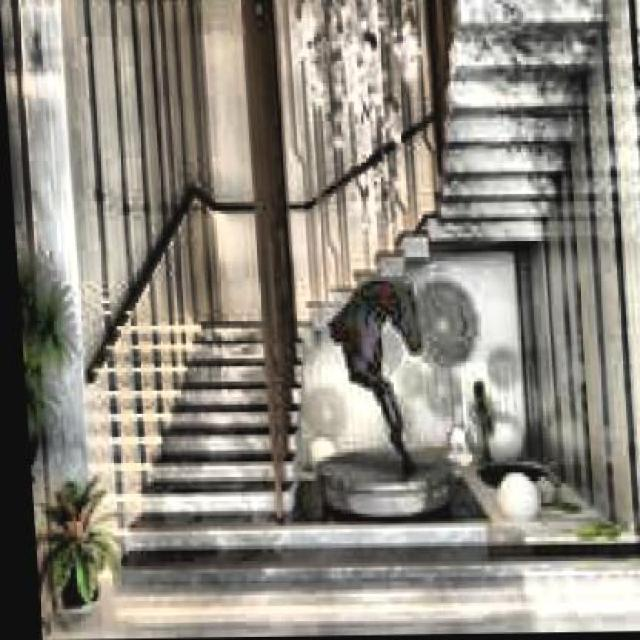stair: (100, 317, 297, 517)
